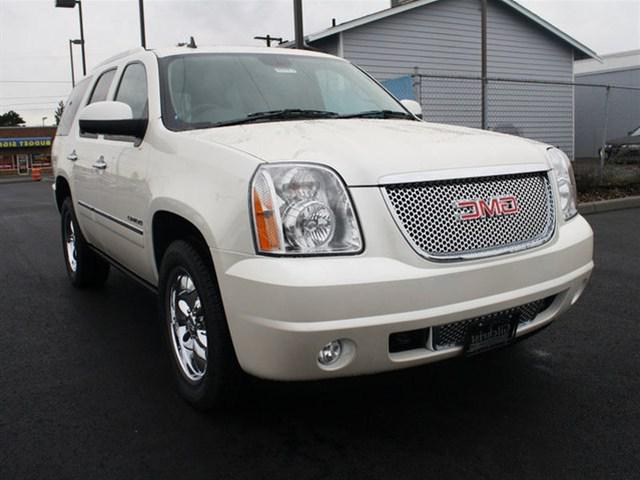Car: (46, 26, 607, 409)
